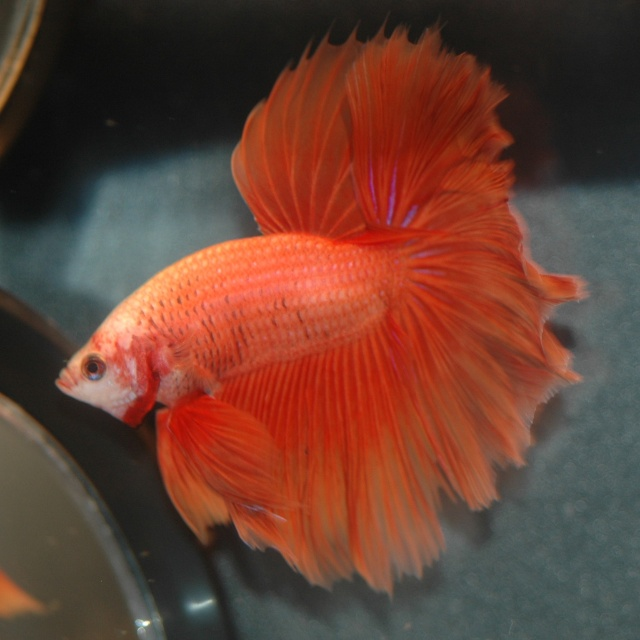Goldfish: (56, 50, 586, 602)
